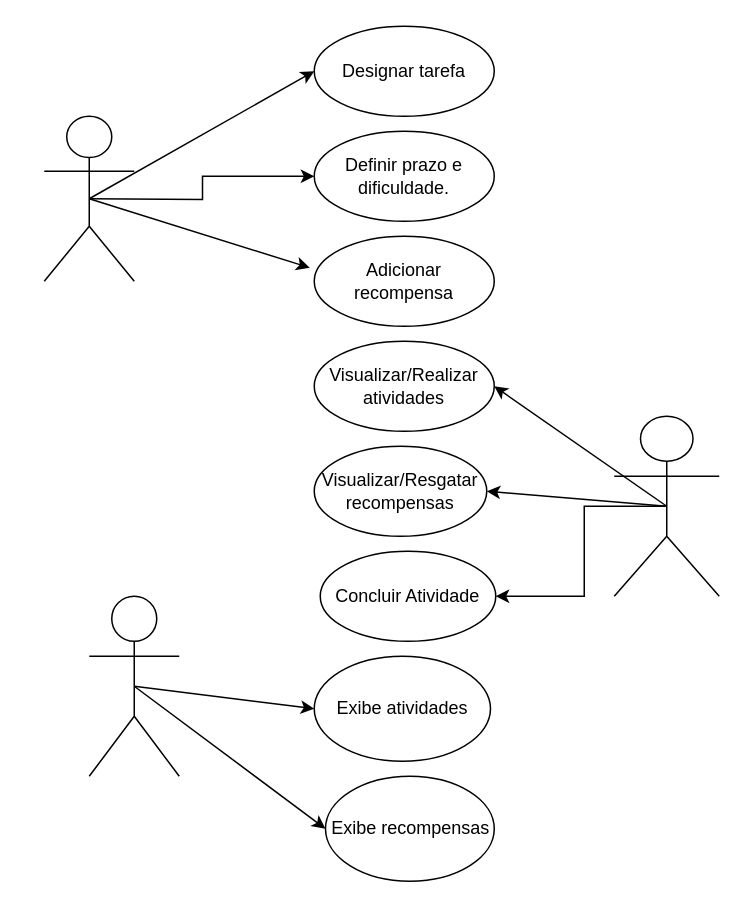
The diagram is 746 pixels wide and 908 high, and some of its shapes have lost their labels. Here are the shapes that lost their labels. From the top down, the centre of each, then its label:
the point at 88,198: Pai/responsável
the point at 666,505: Criança
the point at 133,685: Sistema
